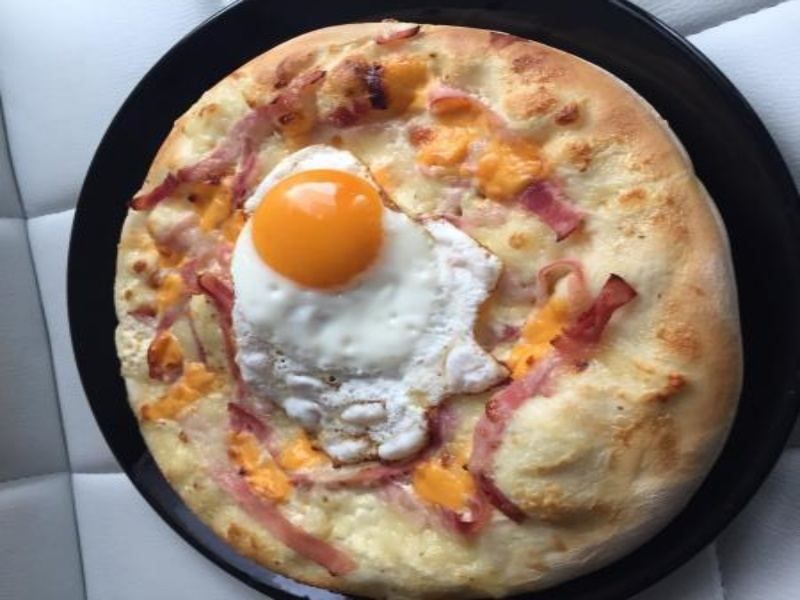oeuf: (234, 170, 407, 311)
